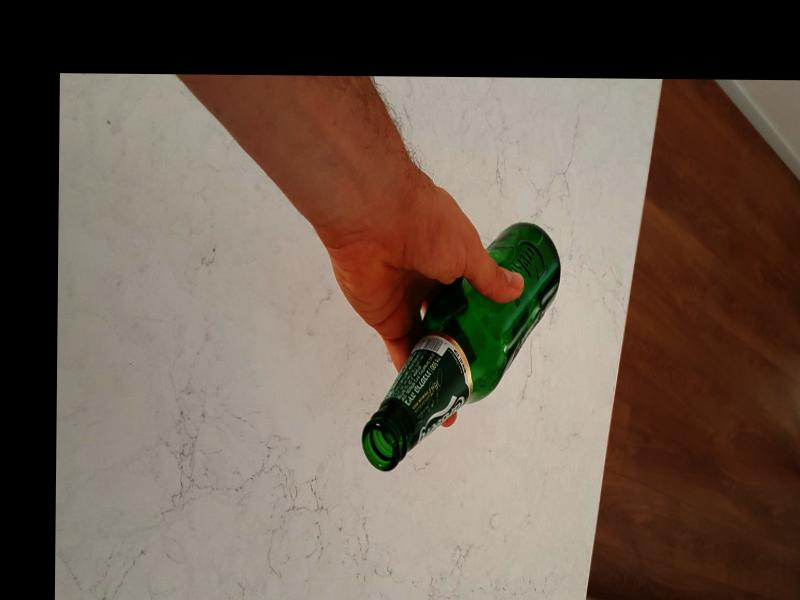Beer: (358, 223, 560, 475)
